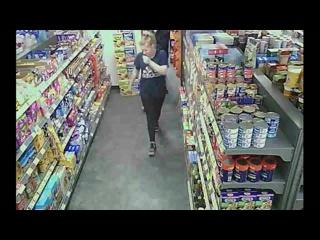Normal: (130, 32, 170, 155)
